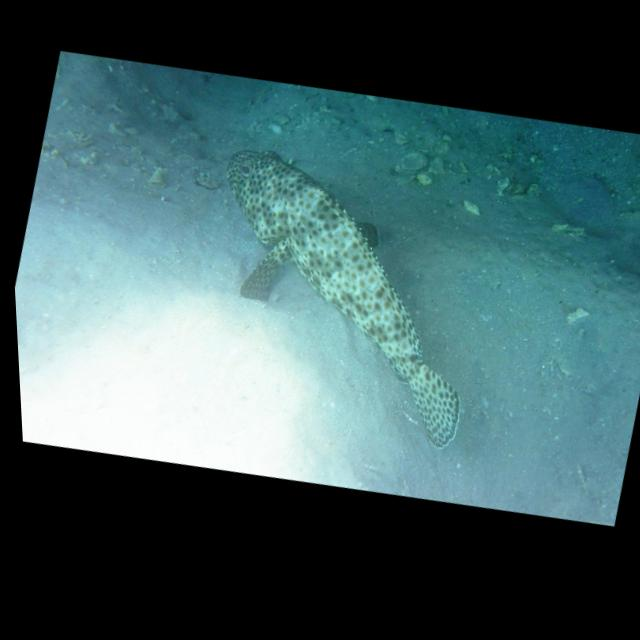Groupers: (168, 113, 522, 477)
